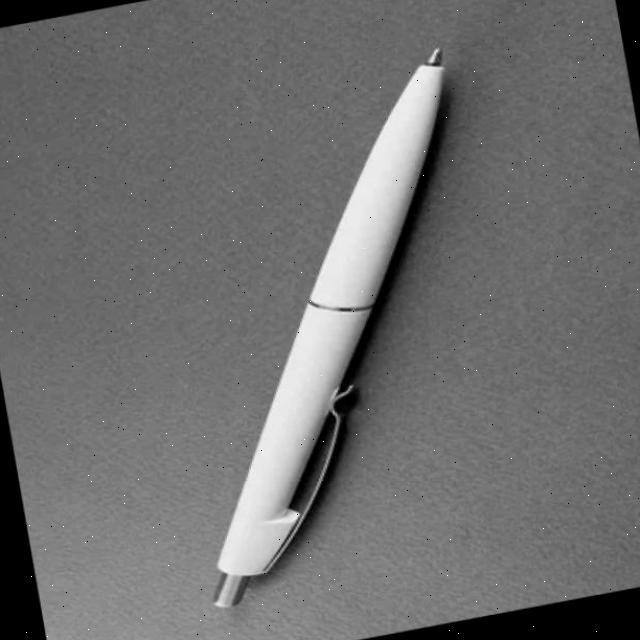pencil: (209, 23, 453, 640)
